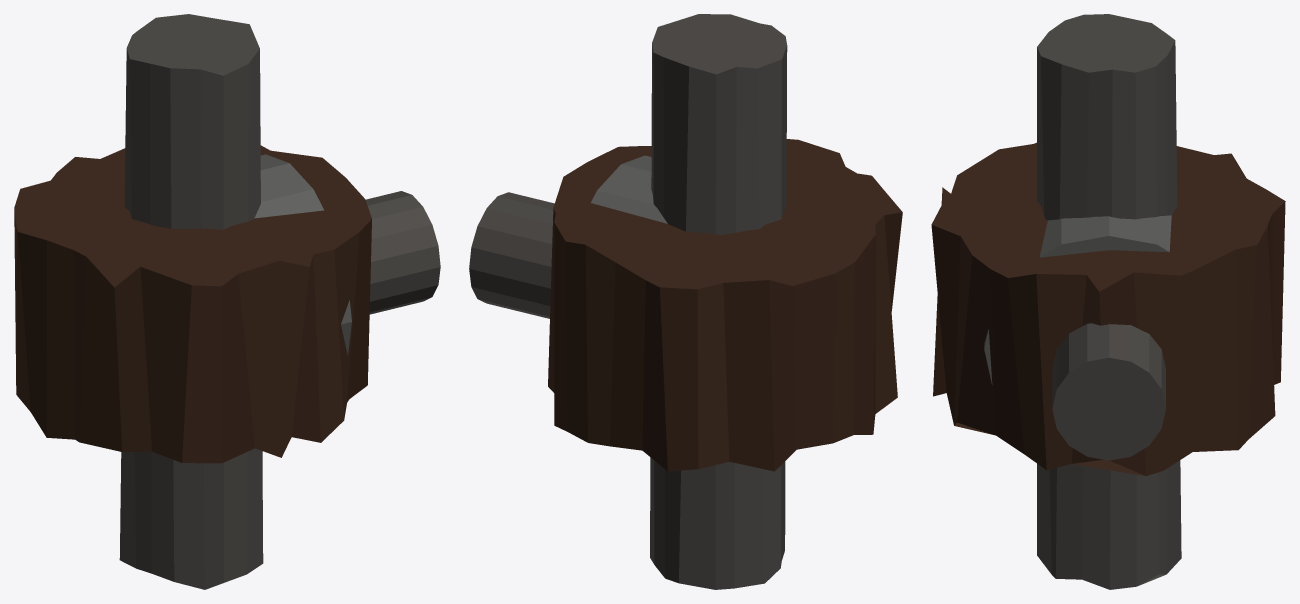
The model's file is axle.glb.
3 views of the same model, side by side, from view 1: azimuth 30°, elevation 25°; view 2: azimuth 150°, elevation 25°; view 3: azimuth 270°, elevation 25° (orthographic).
Visible parts, largest first — view 1: axle; view 2: axle; view 3: axle.
Boxes of the visible parts, <box> form: axle: <box>14,14,440,589</box>; axle: <box>469,14,902,589</box>; axle: <box>931,14,1285,589</box>.
Size of the model in its own units: 0.764 by 1.02 by 0.6232.
